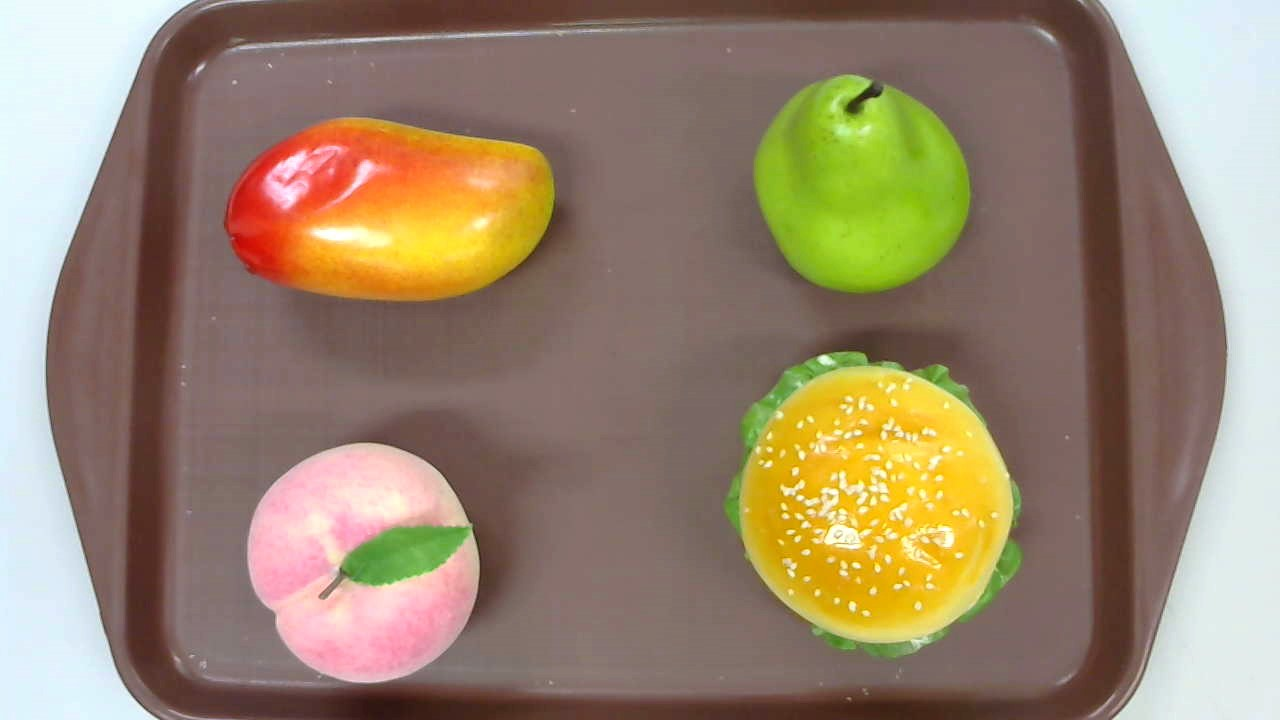green pear: (753, 73, 971, 295)
hamburger: (722, 350, 1025, 659)
peach: (245, 442, 480, 684)
red mango: (222, 113, 555, 305)
